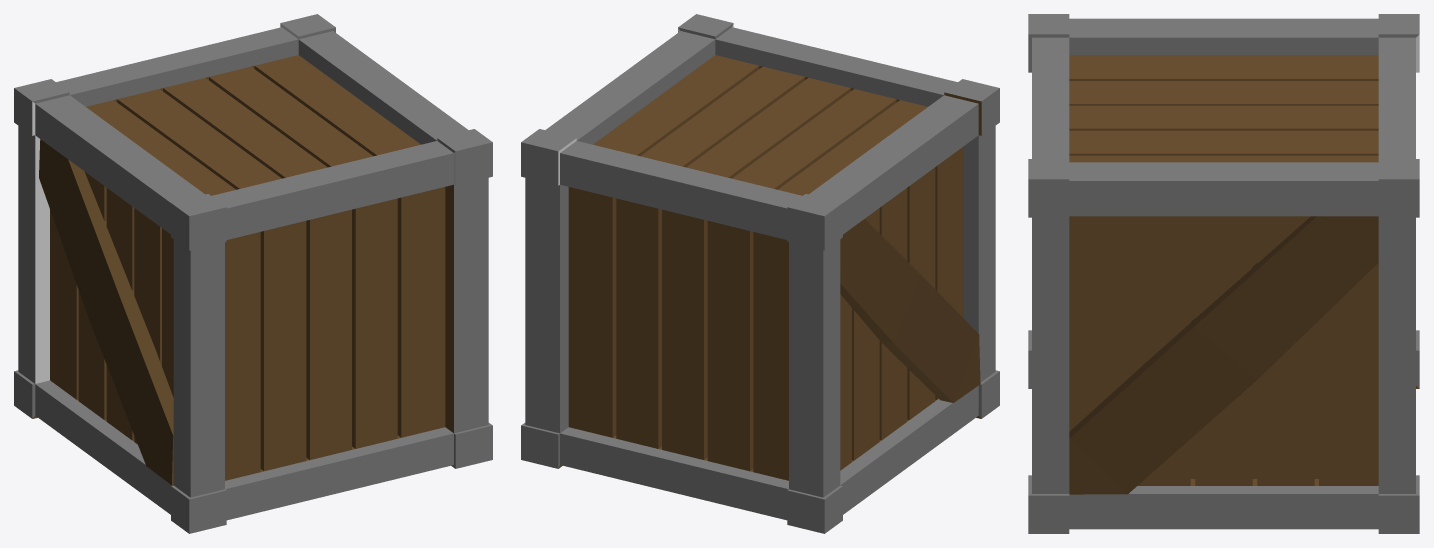
File: Caja de almacenamiento .fbx
3 renders of one model, left to right at view 1: azimuth 30°, elevation 25°; view 2: azimuth 150°, elevation 25°; view 3: azimuth 270°, elevation 25°, orthographic. The views are drawn at different scales.
Parts seen in each view (by area): view 1: Cube; view 2: Cube; view 3: Cube.
Boxes of the visible parts, bbox=[...] form: Cube: bbox=[14, 14, 492, 533]; Cube: bbox=[521, 14, 999, 533]; Cube: bbox=[1028, 14, 1419, 533].
Size of the model in its own units: 80 by 80 by 80.
